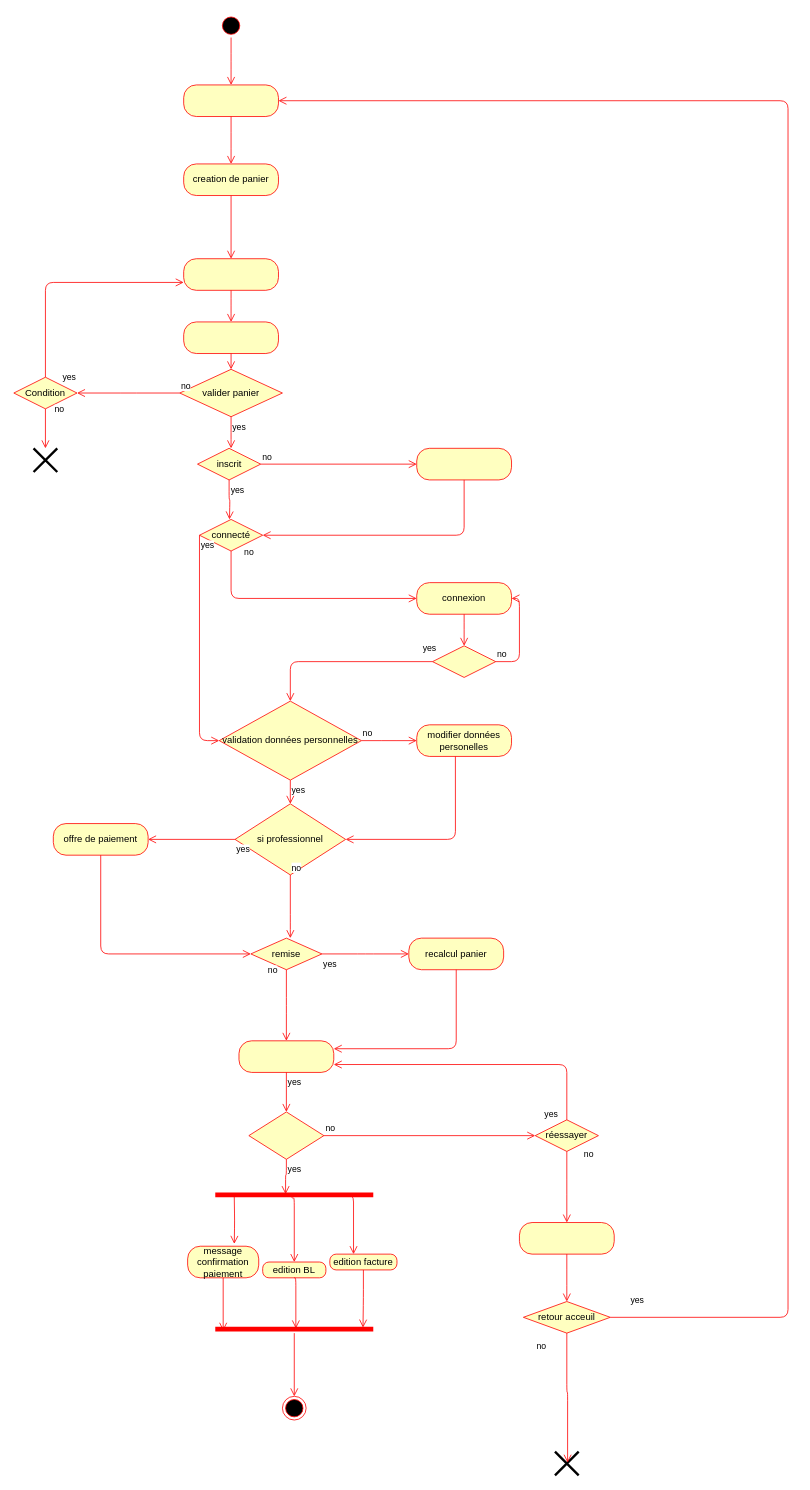
The diagram is 810 pixels wide and 1490 high, and some of its shapes have lost their labels. Each missing label, with the centre of its shape:
"ajout/modification panier" goes at [230,274].
"calcul panier" goes at [230,337].
"Consulter catalogue" goes at [230,100].
"destruction panier" goes at [566,1238].
"inscription" goes at [464,464].
"paiement" goes at [286,1056].
"réussi" goes at [464,661].
"vérification solde" goes at [286,1135].
